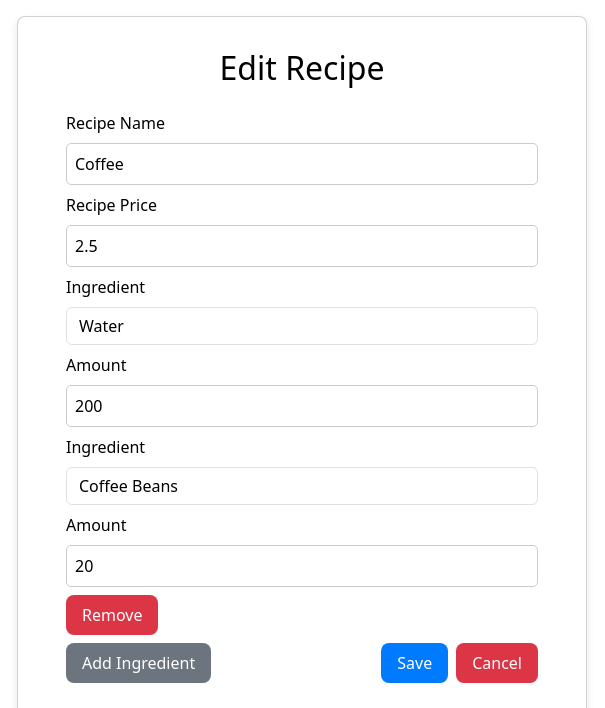
Test: EditRecipeComponent › displays error when update fails
Expected: the field showing "Coffee" below "Recipe Name" is shown, x1=66 y1=143 x2=538 y2=185
Click the button "Save": (415, 663) x1=381 y1=643 x2=448 y2=683
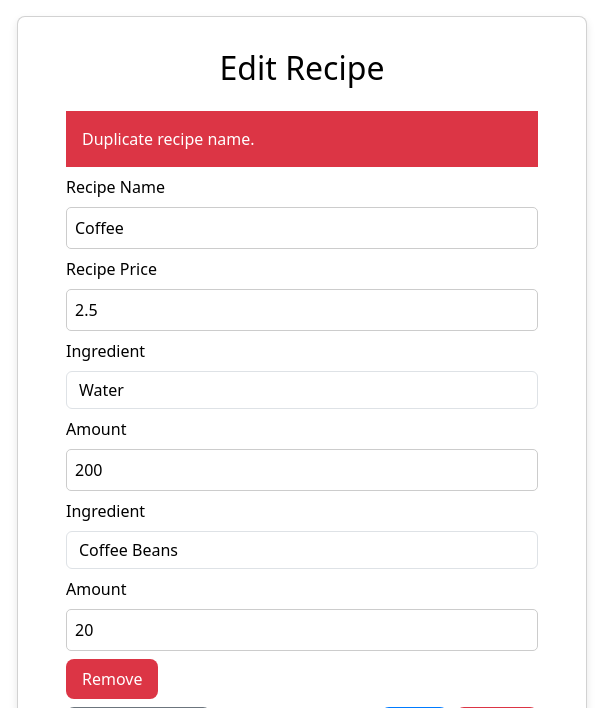
Expected: the text "Duplicate recipe name." is shown, x1=66 y1=111 x2=538 y2=167
